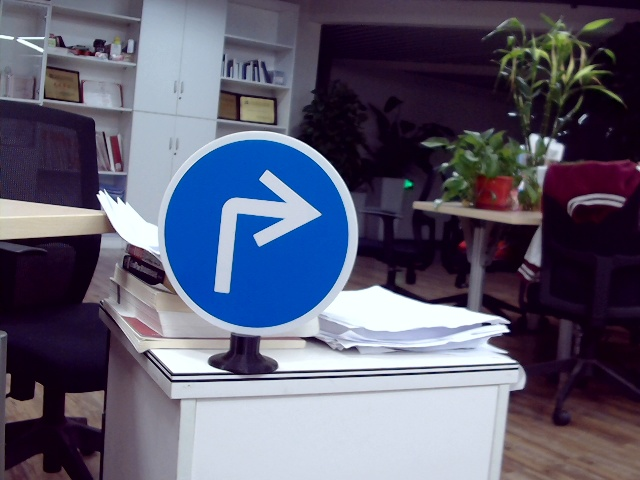turn_right: (207, 166, 317, 298)
